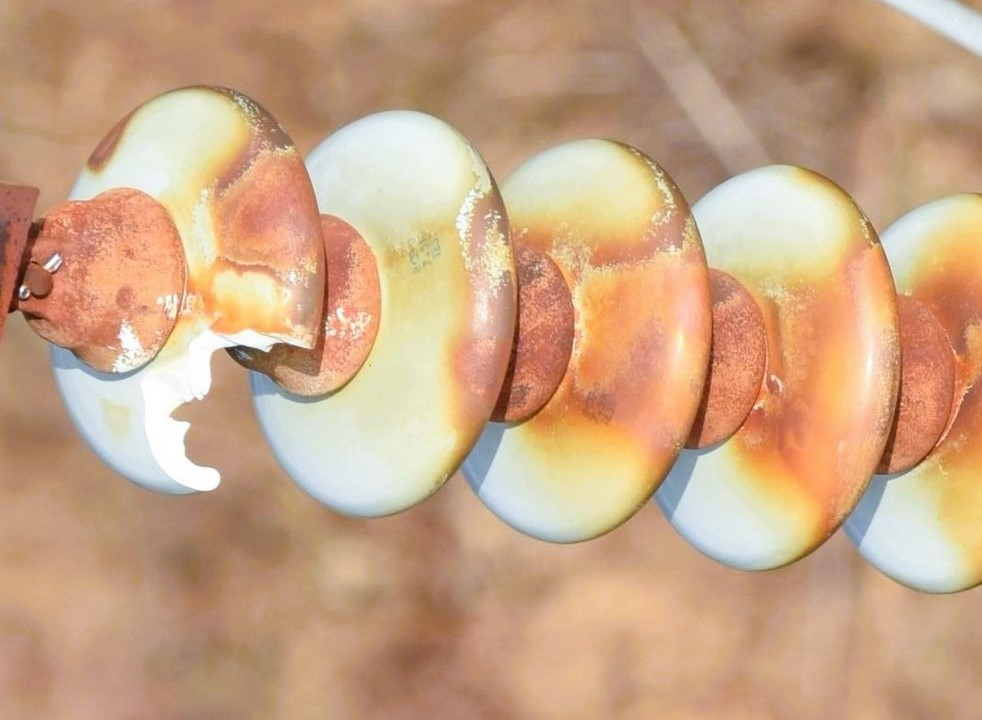insulator breakage: (32, 74, 338, 514)
